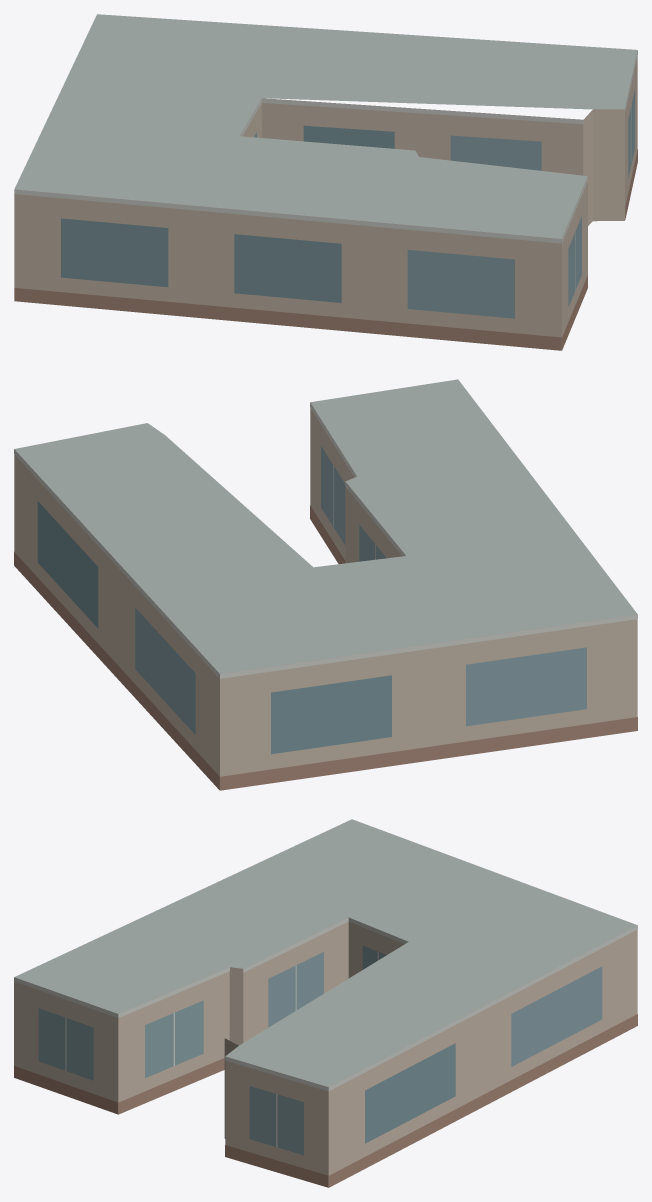
File: survey-upis-32634949.glb
3 renders of one model, top to bottom at view 1: azimuth 30°, elevation 25°; view 2: azimuth 150°, elevation 25°; view 3: azimuth 270°, elevation 25°, orthographic. The views are drawn at different scales.
Visible parts, largest first — view 1: survey-upis-32634949.tmp; view 2: survey-upis-32634949.tmp; view 3: survey-upis-32634949.tmp.
Boxes of the visible parts, <box> form: survey-upis-32634949.tmp: <box>14,14,637,350</box>; survey-upis-32634949.tmp: <box>14,379,637,790</box>; survey-upis-32634949.tmp: <box>14,819,637,1187</box>.
Bounding box in the file's own units: 17.46 × 3.05 × 17.16.
